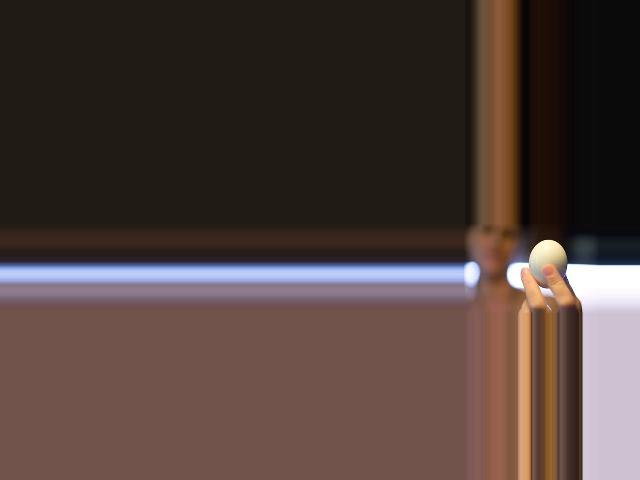egg: (527, 240, 566, 289)
